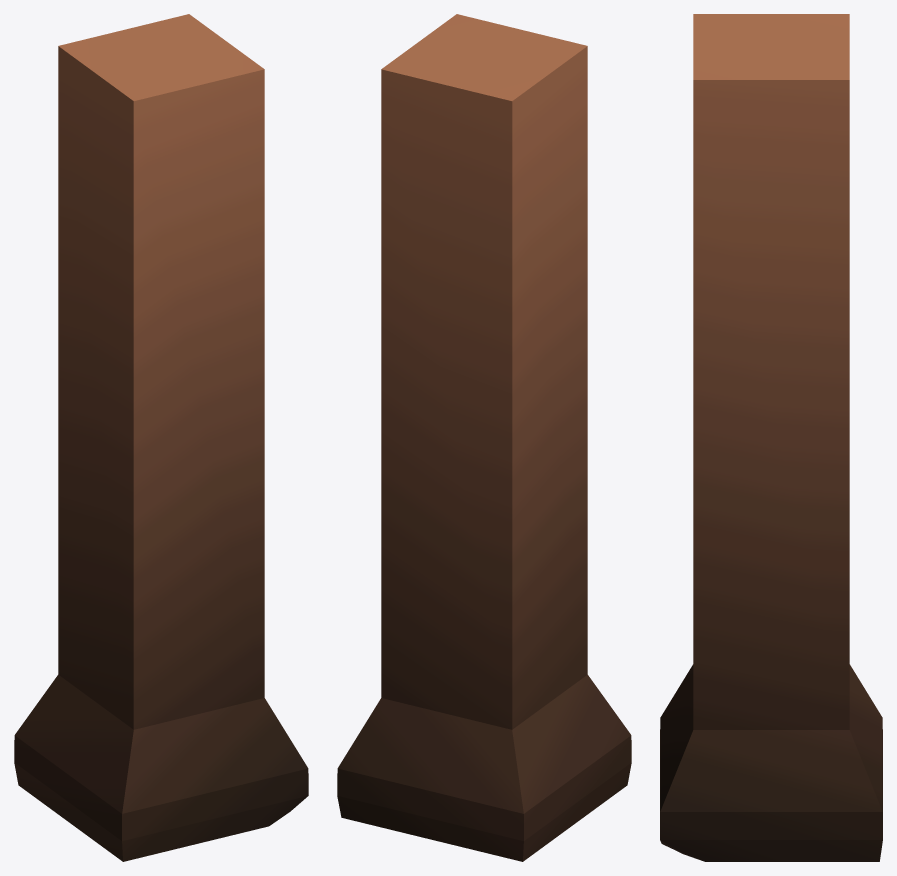
The model's file is masaayag.fbx.
The picture shows the model from 3 angles, left to right: view 1: azimuth 30°, elevation 25°; view 2: azimuth 150°, elevation 25°; view 3: azimuth 270°, elevation 25°; orthographic projection. The views are drawn at different scales.
Parts seen in each view (by area): view 1: masa_ayağı; view 2: masa_ayağı; view 3: masa_ayağı.
Part boxes in pixels (x1,y1,x2,y2): masa_ayağı: (14,14,308,861); masa_ayağı: (337,14,631,861); masa_ayağı: (660,14,882,861).
Size of the model in its own units: 36.54 by 139 by 36.54.
1 material, 1 textured.
